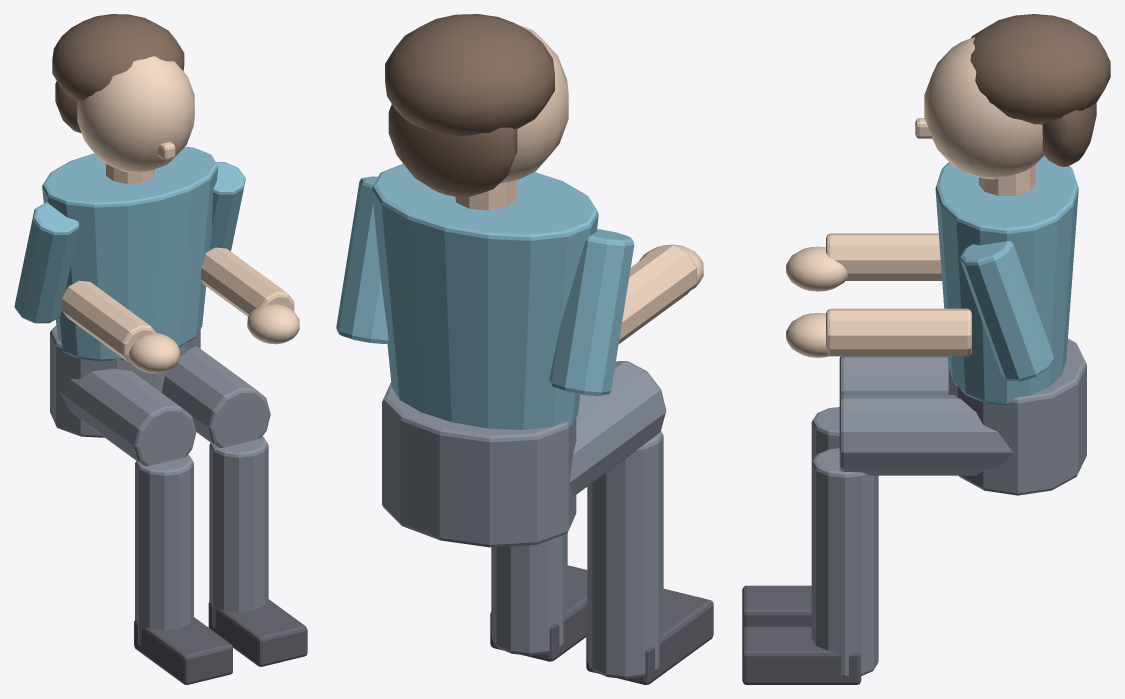
The model's file is Dev.fbx.
3 views of the same model, side by side, from view 1: azimuth 30°, elevation 25°; view 2: azimuth 150°, elevation 25°; view 3: azimuth 270°, elevation 25° (orthographic). The views are drawn at different scales.
Visible parts, largest first — view 1: Dev; view 2: Dev; view 3: Dev.
Part boxes in pixels (x1,y1,x2,y2): Dev: (14, 14, 307, 684); Dev: (336, 14, 713, 684); Dev: (742, 14, 1110, 684).
Bounding box in the file's own units: 0.4989 × 1.28 × 0.6815.
